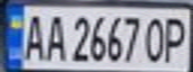2: (66, 11, 90, 63)
6: (87, 11, 109, 63), (106, 12, 127, 63)
7: (121, 12, 145, 63)
A: (18, 10, 48, 62), (42, 10, 69, 62)
O: (142, 13, 169, 64)
P: (160, 12, 190, 64)
